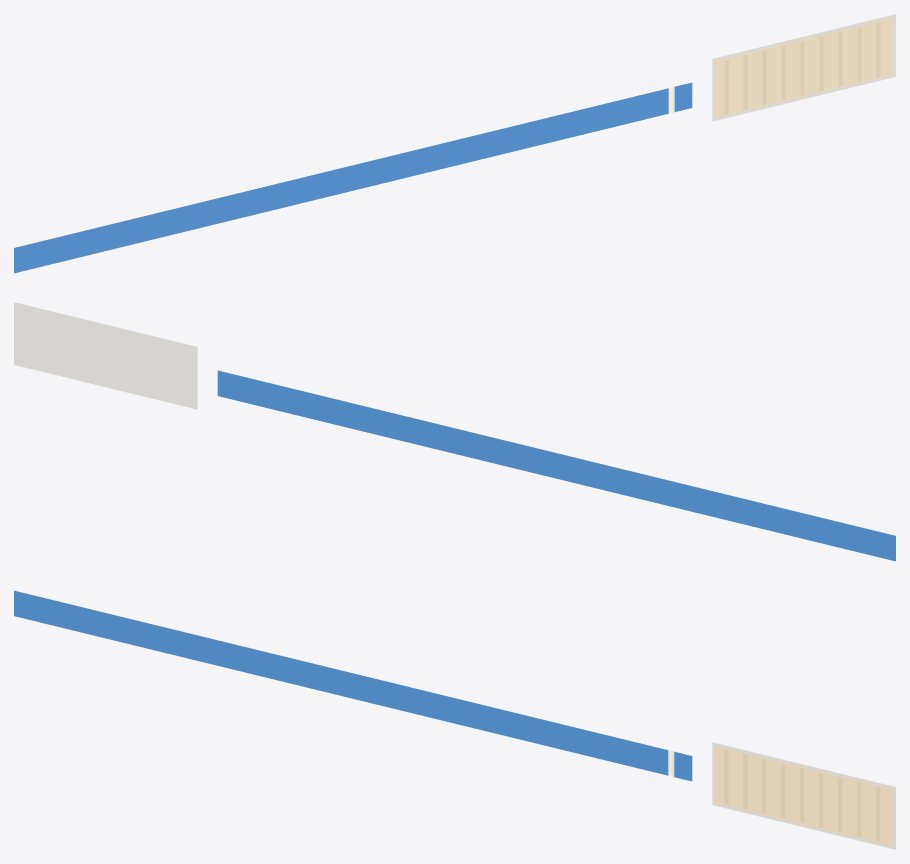
File: longueur.glb
3 views of the same model, one above another, from view 1: azimuth 30°, elevation 25°; view 2: azimuth 150°, elevation 25°; view 3: azimuth 330°, elevation 25° (orthographic).
Visible parts, largest first — view 1: elan, fosse, bordure, ligne, ligne.001; view 2: elan, bordure, ligne.001, ligne; view 3: elan, fosse, bordure, ligne.001, ligne.
Part boxes in pixels (x1,y1,x2,y2): elan: [14, 82, 692, 273]; fosse: [714, 17, 893, 118]; bordure: [712, 14, 895, 121]; ligne: [14, 108, 692, 273]; ligne.001: [14, 82, 692, 247]; elan: [217, 370, 895, 561]; bordure: [14, 302, 197, 409]; ligne.001: [218, 370, 895, 535]; ligne: [218, 396, 895, 561]; elan: [14, 590, 692, 781]; fosse: [714, 745, 893, 846]; bordure: [712, 742, 895, 849]; ligne.001: [14, 590, 691, 755]; ligne: [14, 616, 691, 781].
Size of the model in its own units: 44.2 by 3 by 0.021.
